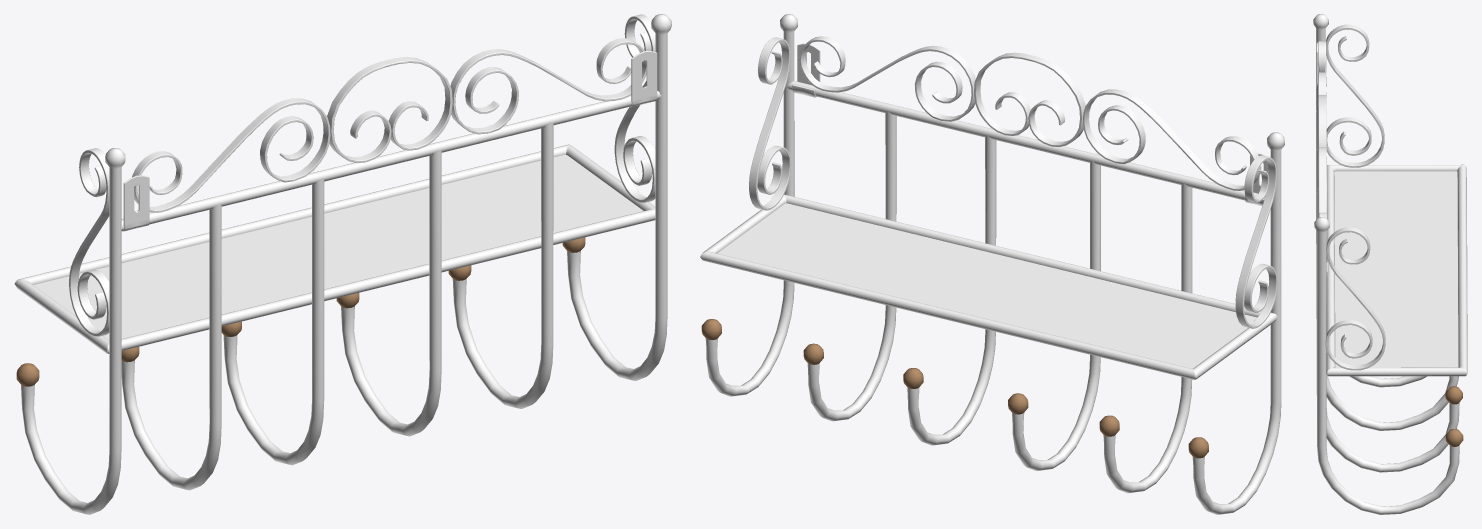
File: J_CoatRackB.obj
3 views of the same model, side by side, from view 1: azimuth 30°, elevation 25°; view 2: azimuth 150°, elevation 25°; view 3: azimuth 270°, elevation 25° (orthographic). The views are drawn at different scales.
Parts seen in each view (by area): view 1: J_CoatRackB_m0, J_CoatRackB_m1, J_CoatRackB_m2; view 2: J_CoatRackB_m0, J_CoatRackB_m1, J_CoatRackB_m2; view 3: J_CoatRackB_m1, J_CoatRackB_m0, J_CoatRackB_m2.
Boxes of the visible parts, x1,y1,x2,y2 form: J_CoatRackB_m0: (14,14,671,514); J_CoatRackB_m1: (33,154,643,339); J_CoatRackB_m2: (16,237,585,386); J_CoatRackB_m0: (700,14,1284,514); J_CoatRackB_m1: (717,203,1257,368); J_CoatRackB_m2: (701,319,1208,458); J_CoatRackB_m1: (1334,171,1458,367); J_CoatRackB_m0: (1313,14,1467,514); J_CoatRackB_m2: (1445,386,1463,446).
Size of the model in its own units: 0.6569 by 0.455 by 0.2044.
